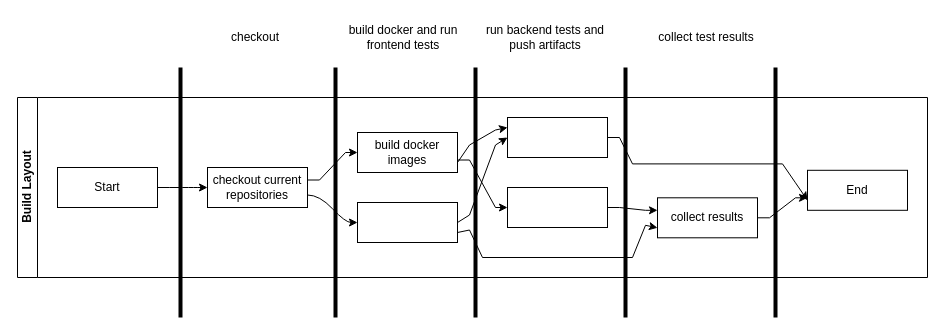
Some shapes in this 945 by 336 pixel diagram are drawn without their labels. The shapes that lost their labels are listed below. From the top down, each one's box as (x1, y1, x2, y2) in pixels, then its label:
(506, 116, 608, 158): push artifacts
(356, 202, 458, 242): run frontend tests
(506, 186, 608, 228): run backend tests
